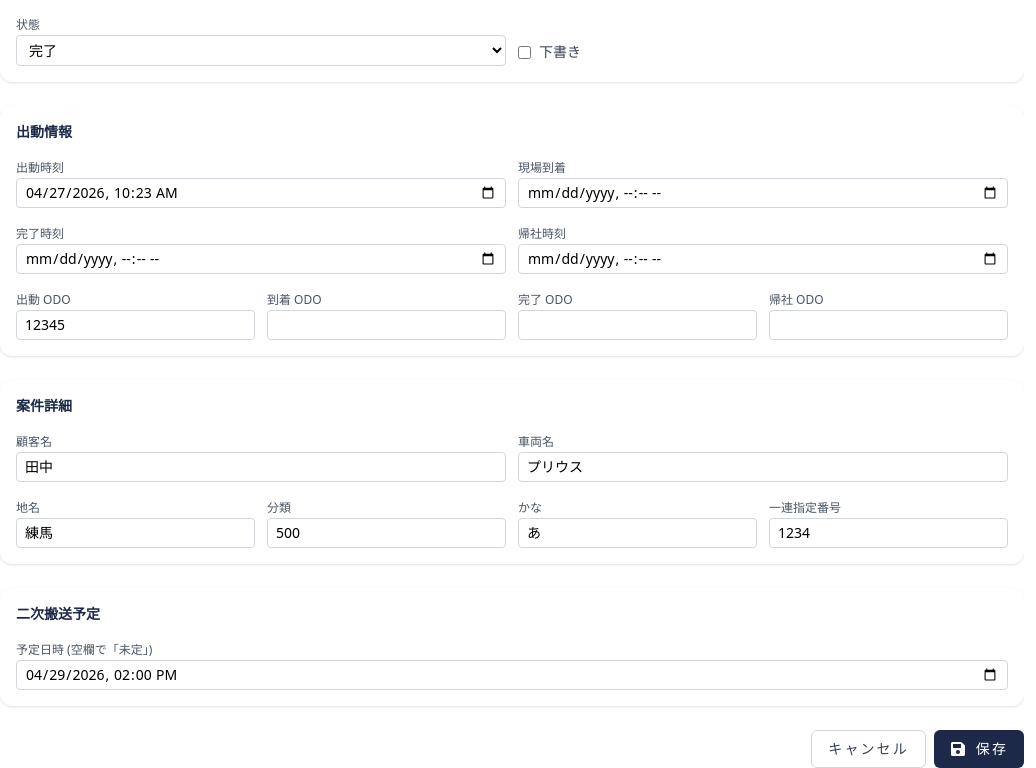
Test case: DispatchEditForm › PATCH 失敗時はエラーメッセージが表示される
The image size is (1036, 768).
(page scrolled)
Click the button with test id "form-submit": click(979, 749) [934,730,1024,767]
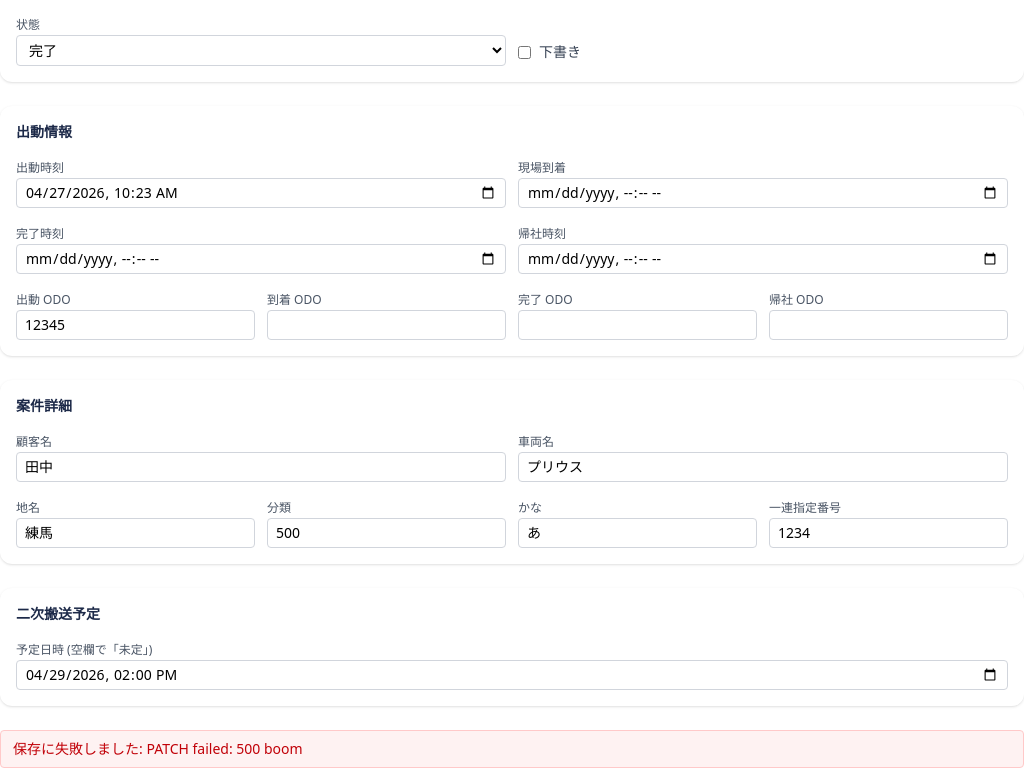
Now the text "保存に失敗しました: PATCH failed: 500 boom" is shown, box [0,730,1024,767]
